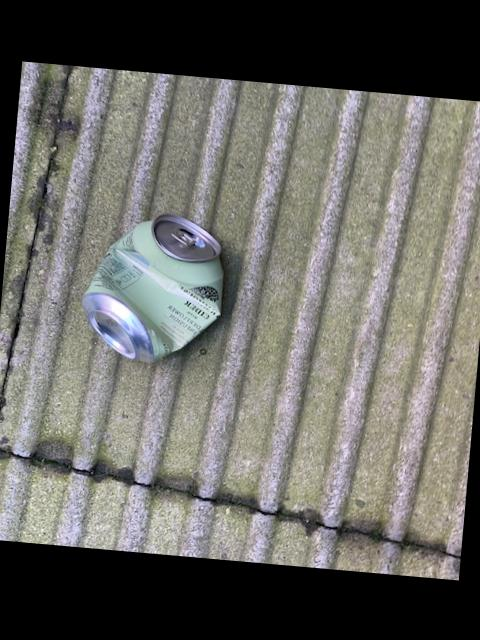metal: (81, 211, 221, 359)
